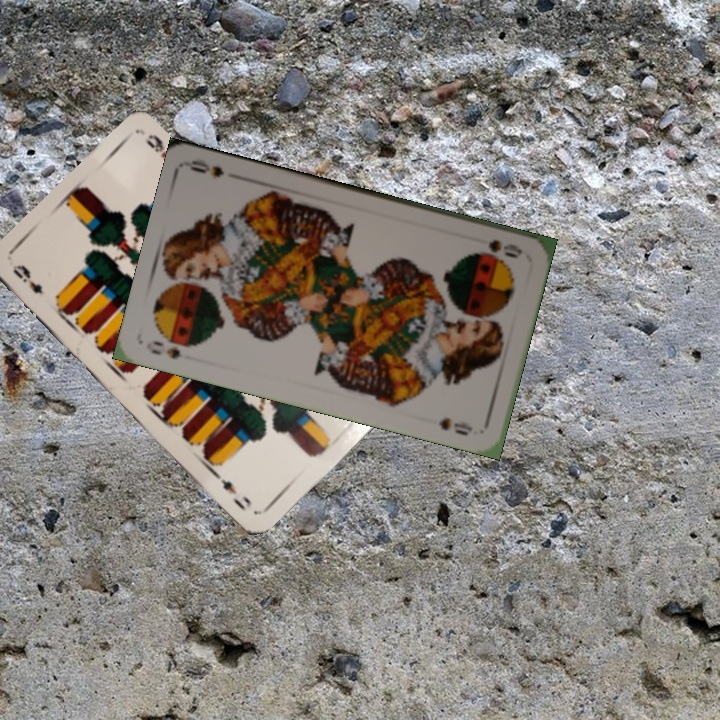E9: (8, 261, 46, 297)
SO: (146, 336, 193, 362), (484, 235, 525, 261)
